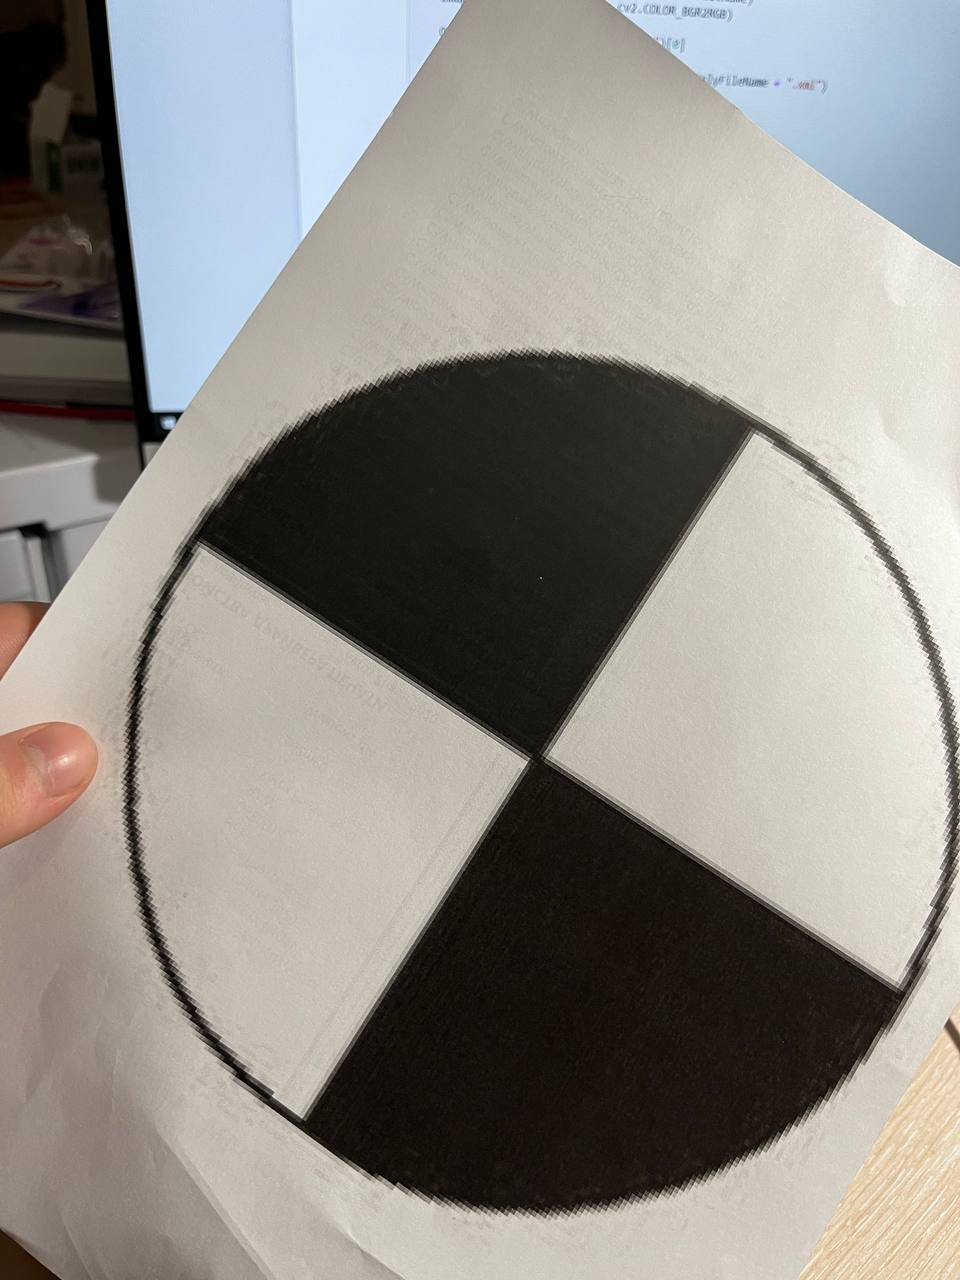pattern: (135, 352, 958, 1219)
